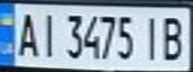3: (60, 10, 84, 60)
4: (81, 11, 103, 60)
5: (115, 11, 139, 61)
7: (97, 11, 118, 61)
A: (12, 8, 42, 59)
B: (157, 11, 190, 62)
I: (139, 11, 166, 62), (36, 8, 60, 59)
